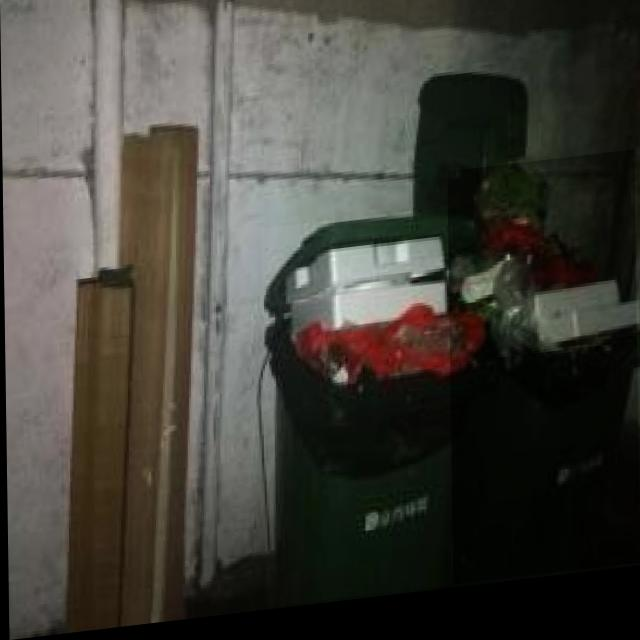overflow: (260, 214, 488, 613), (447, 165, 638, 596)
